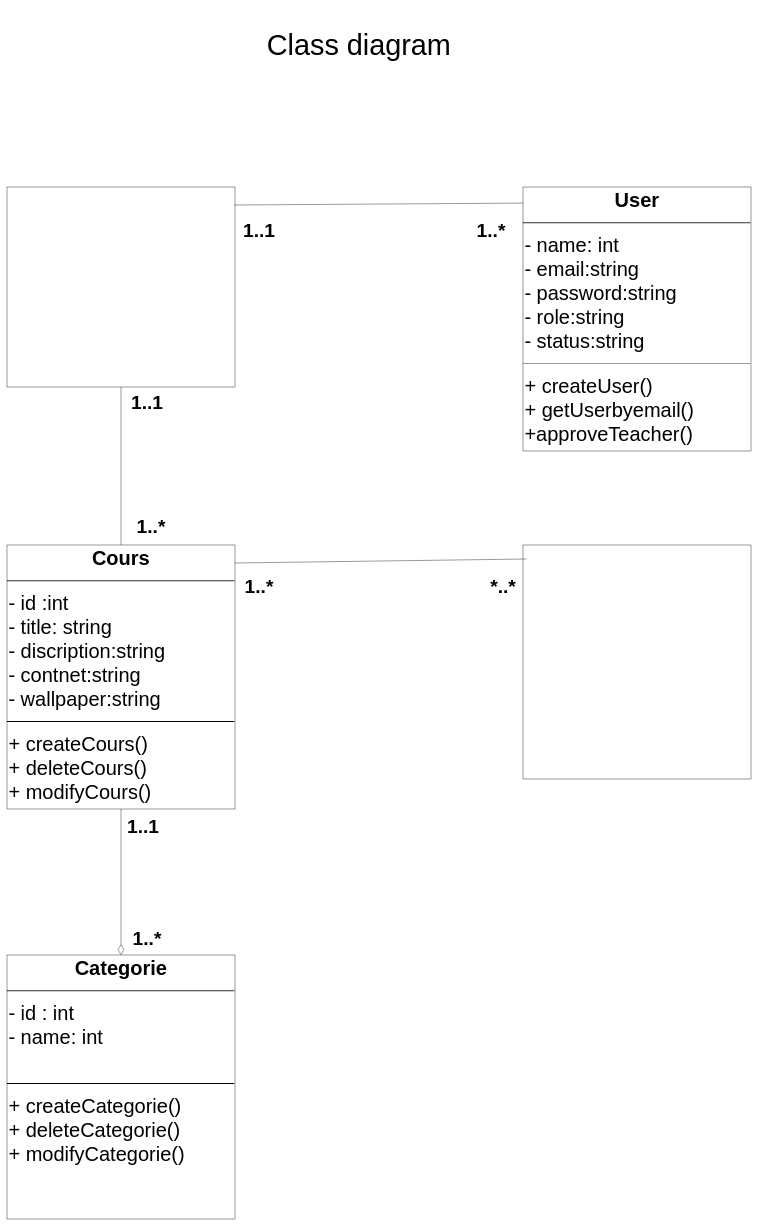
The diagram is 758 pixels wide and 1226 high, and some of its shapes have lost their labels. Each missing label, with the centre of its shape:
Enrollement - id: int - course:string - enrolled_at:date: the point at 121,287
Tags - id: int - name:string + createTag() + deleteTag() + modifyTag(): the point at 637,662
